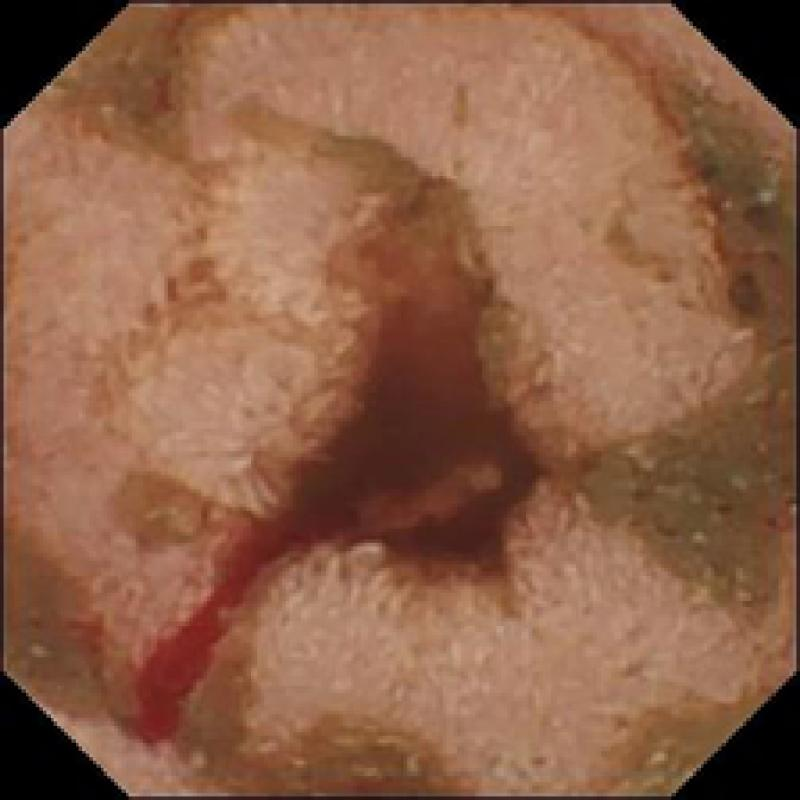bleeding: (129, 447, 346, 749), (328, 291, 381, 437)
